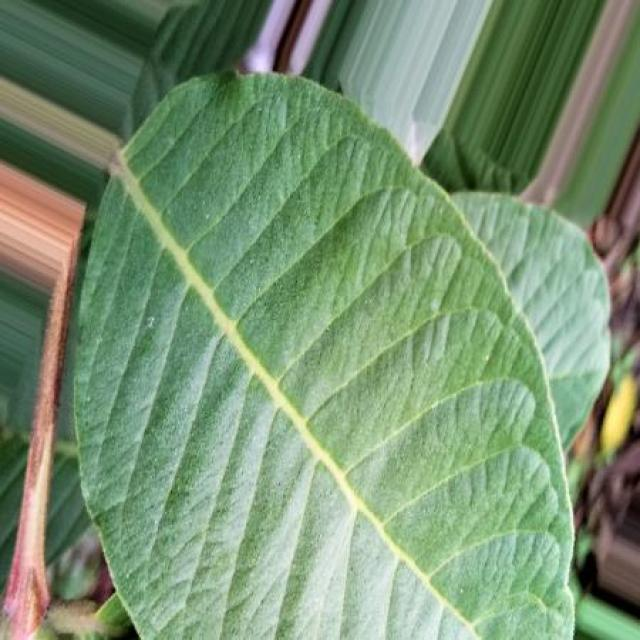Disease Free: (75, 75, 570, 639)
